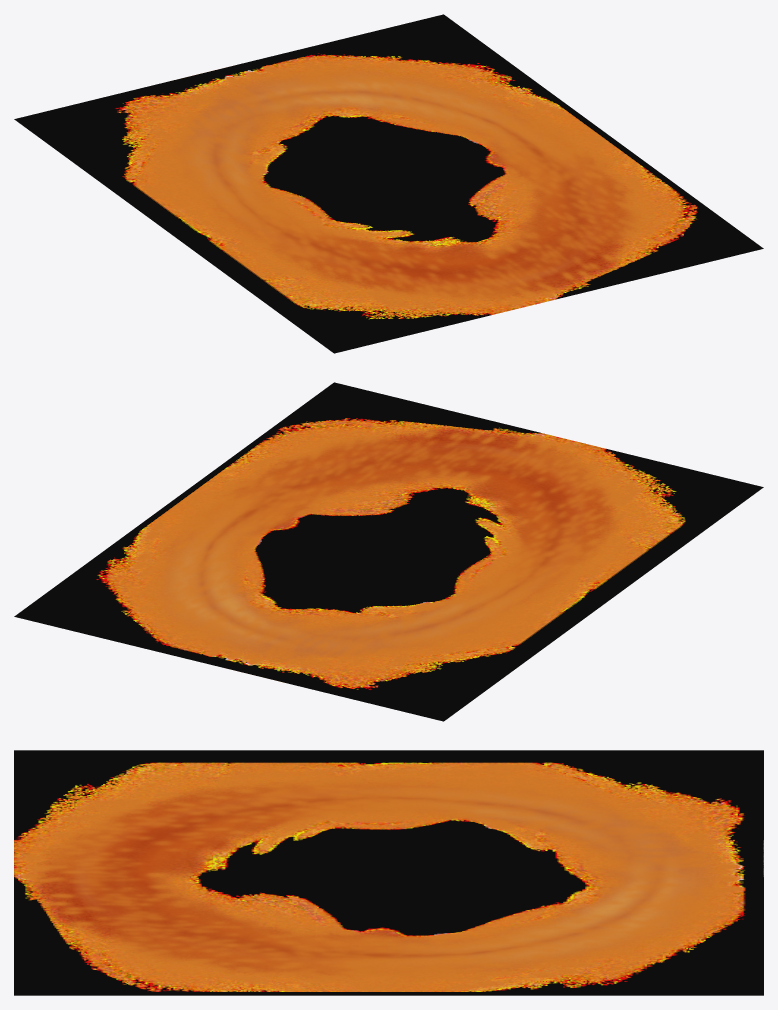
Rendered from Portal.fbx.
3 renders of one model, top to bottom at view 1: azimuth 30°, elevation 25°; view 2: azimuth 150°, elevation 25°; view 3: azimuth 270°, elevation 25°, orthographic. The views are drawn at different scales.
Parts seen in each view (by area): view 1: Portal; view 2: Portal; view 3: Portal.
Boxes of the visible parts, x1,y1,x2,y2 form: Portal: [14, 14, 763, 353]; Portal: [14, 382, 763, 721]; Portal: [14, 750, 763, 995].
Size of the model in its own units: 155 by 0.1512 by 200.
